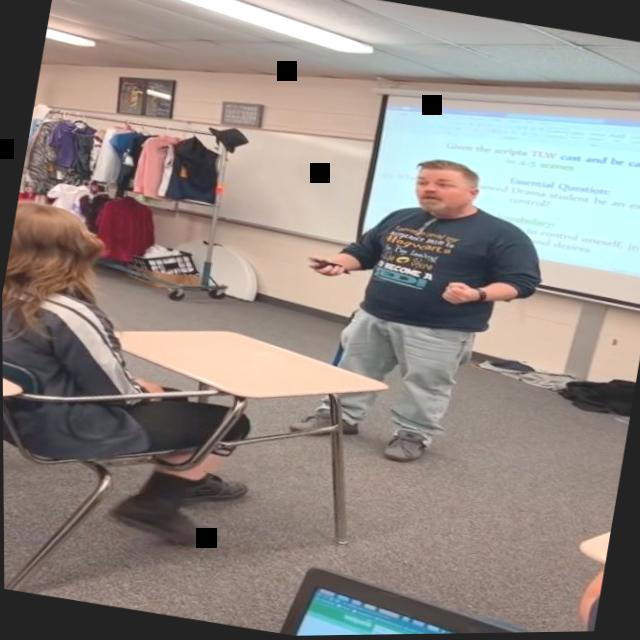NO-Mask: (410, 160, 481, 221)
